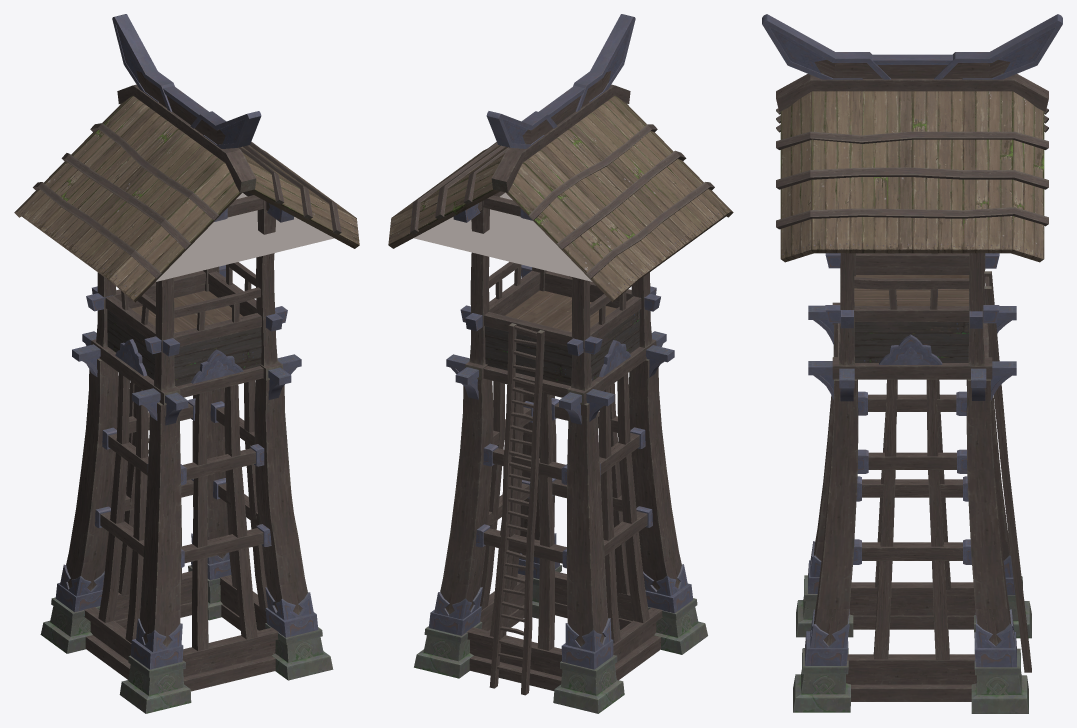
Rendered from Homeworld_Exterior_Dq_Build_House_25_Lod0.fbx.
3 views of the same model, side by side, from view 1: azimuth 30°, elevation 25°; view 2: azimuth 150°, elevation 25°; view 3: azimuth 270°, elevation 25° (orthographic). The views are drawn at different scales.
Parts seen in each view (by area): view 1: Area_Dq_Build_SWZ_Mfjunying_04_Lod0, Area_Dq_Build_SWZ_Mfjunying_04_Ocl; view 2: Area_Dq_Build_SWZ_Mfjunying_04_Lod0, Area_Dq_Build_SWZ_Mfjunying_04_Ocl; view 3: Area_Dq_Build_SWZ_Mfjunying_04_Lod0.
Part boxes in pixels (x1,y1,x2,y2): Area_Dq_Build_SWZ_Mfjunying_04_Lod0: (14, 14, 359, 713); Area_Dq_Build_SWZ_Mfjunying_04_Ocl: (156, 193, 334, 281); Area_Dq_Build_SWZ_Mfjunying_04_Lod0: (388, 14, 733, 713); Area_Dq_Build_SWZ_Mfjunying_04_Ocl: (413, 192, 592, 281); Area_Dq_Build_SWZ_Mfjunying_04_Lod0: (762, 14, 1062, 713).
Size of what is drawn, in the model's own units: 8 by 18.13 by 7.65.
